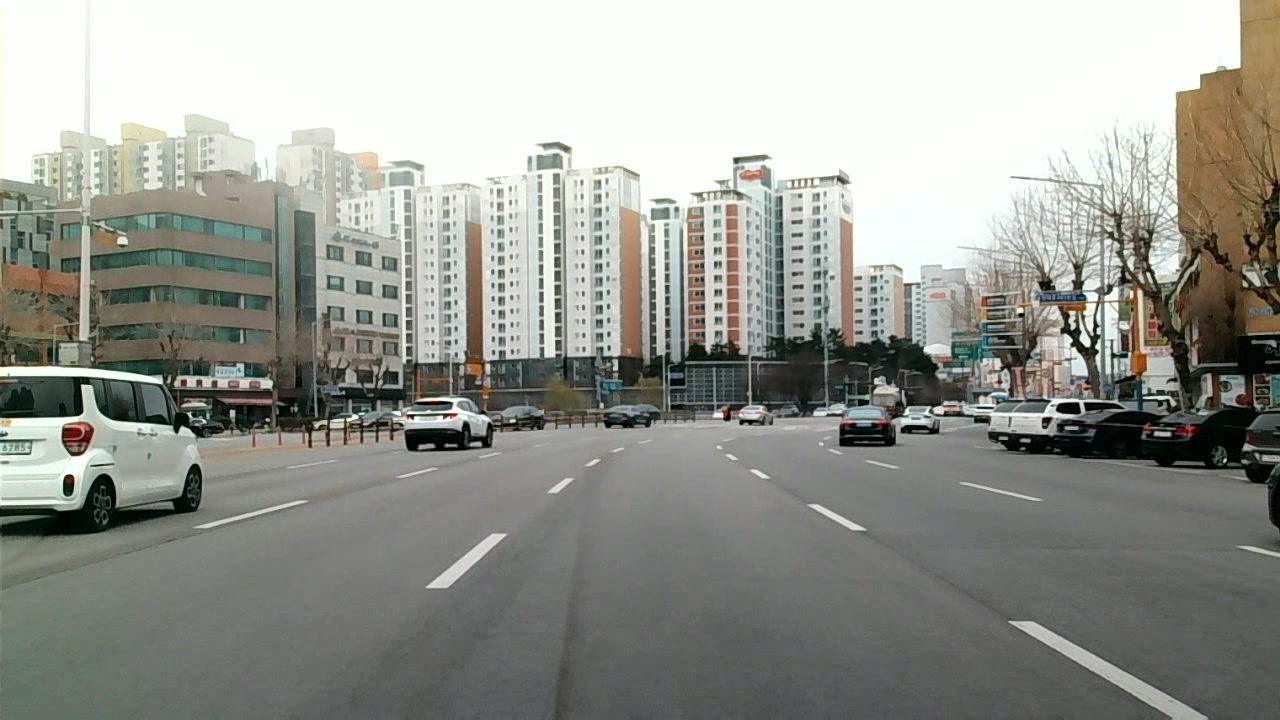vcrack: (867, 530, 989, 617), (3, 559, 96, 593), (100, 531, 198, 560)
